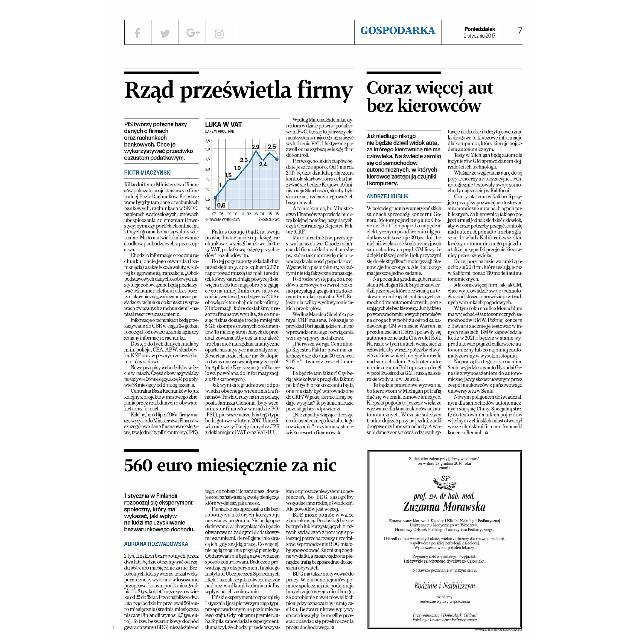article: (121, 70, 356, 438), (364, 70, 526, 438), (121, 447, 357, 633)
